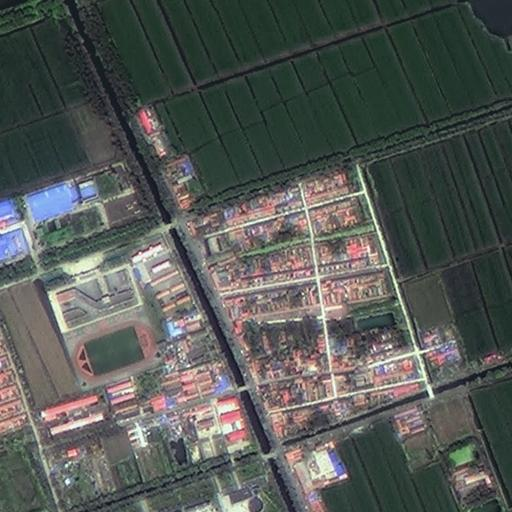school: (48, 258, 160, 387), (131, 237, 196, 317)
